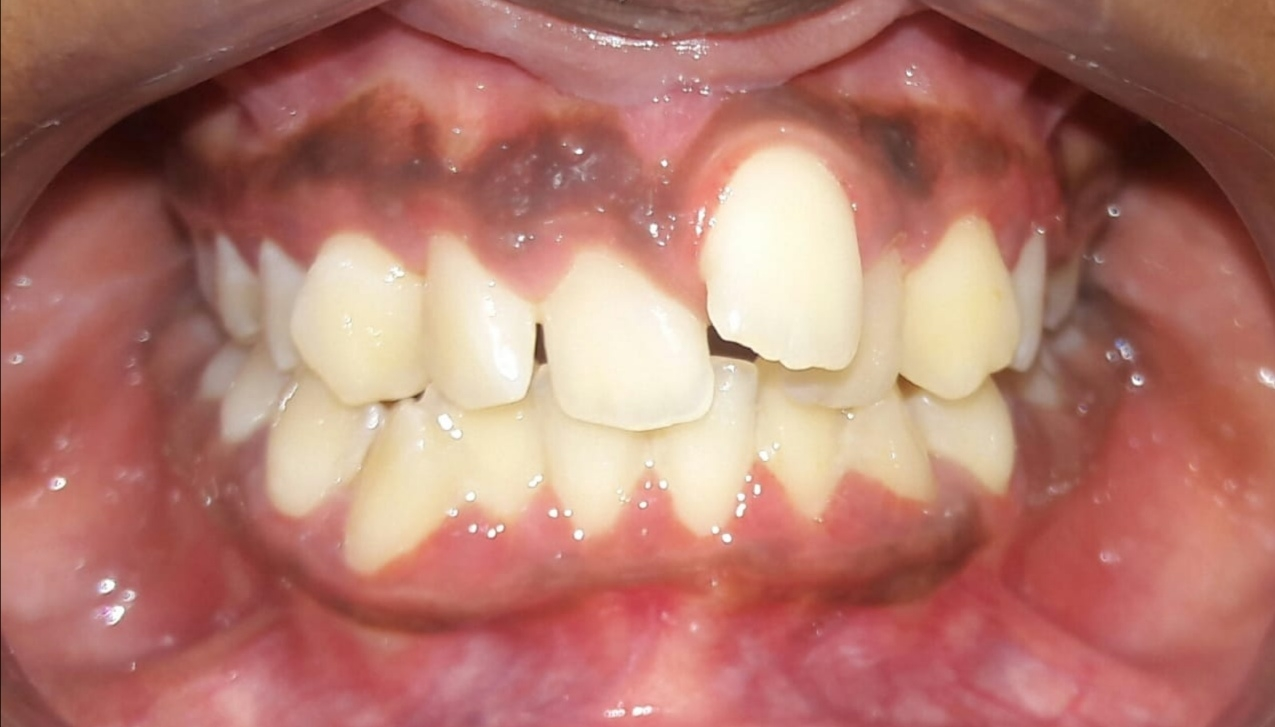LL1BC_healthy: (929, 391, 1013, 491)
LLCI_healthy: (652, 427, 753, 530)
LLC_healthy: (854, 403, 930, 499)
LLLI_healthy: (760, 392, 848, 513)
LR1BC_healthy: (272, 387, 352, 513)
LR2BC_healthy: (224, 358, 271, 438)
LRCI_healthy: (548, 422, 644, 530)
LRC_healthy: (354, 403, 452, 568)
LRLI_healthy: (460, 413, 546, 519)
UL1BC_healthy: (1015, 231, 1043, 371)
ULCI_healthy: (707, 155, 861, 368)
ULC_healthy: (903, 220, 1017, 393)
ULLI_healthy: (865, 271, 897, 396)
UR1BC_healthy: (262, 243, 297, 369)
UR2BC_mdecay: (219, 242, 262, 344)
URCI_healthy: (544, 261, 711, 426)
URC_healthy: (295, 237, 424, 402)
URLI_healthy: (426, 231, 535, 404)
